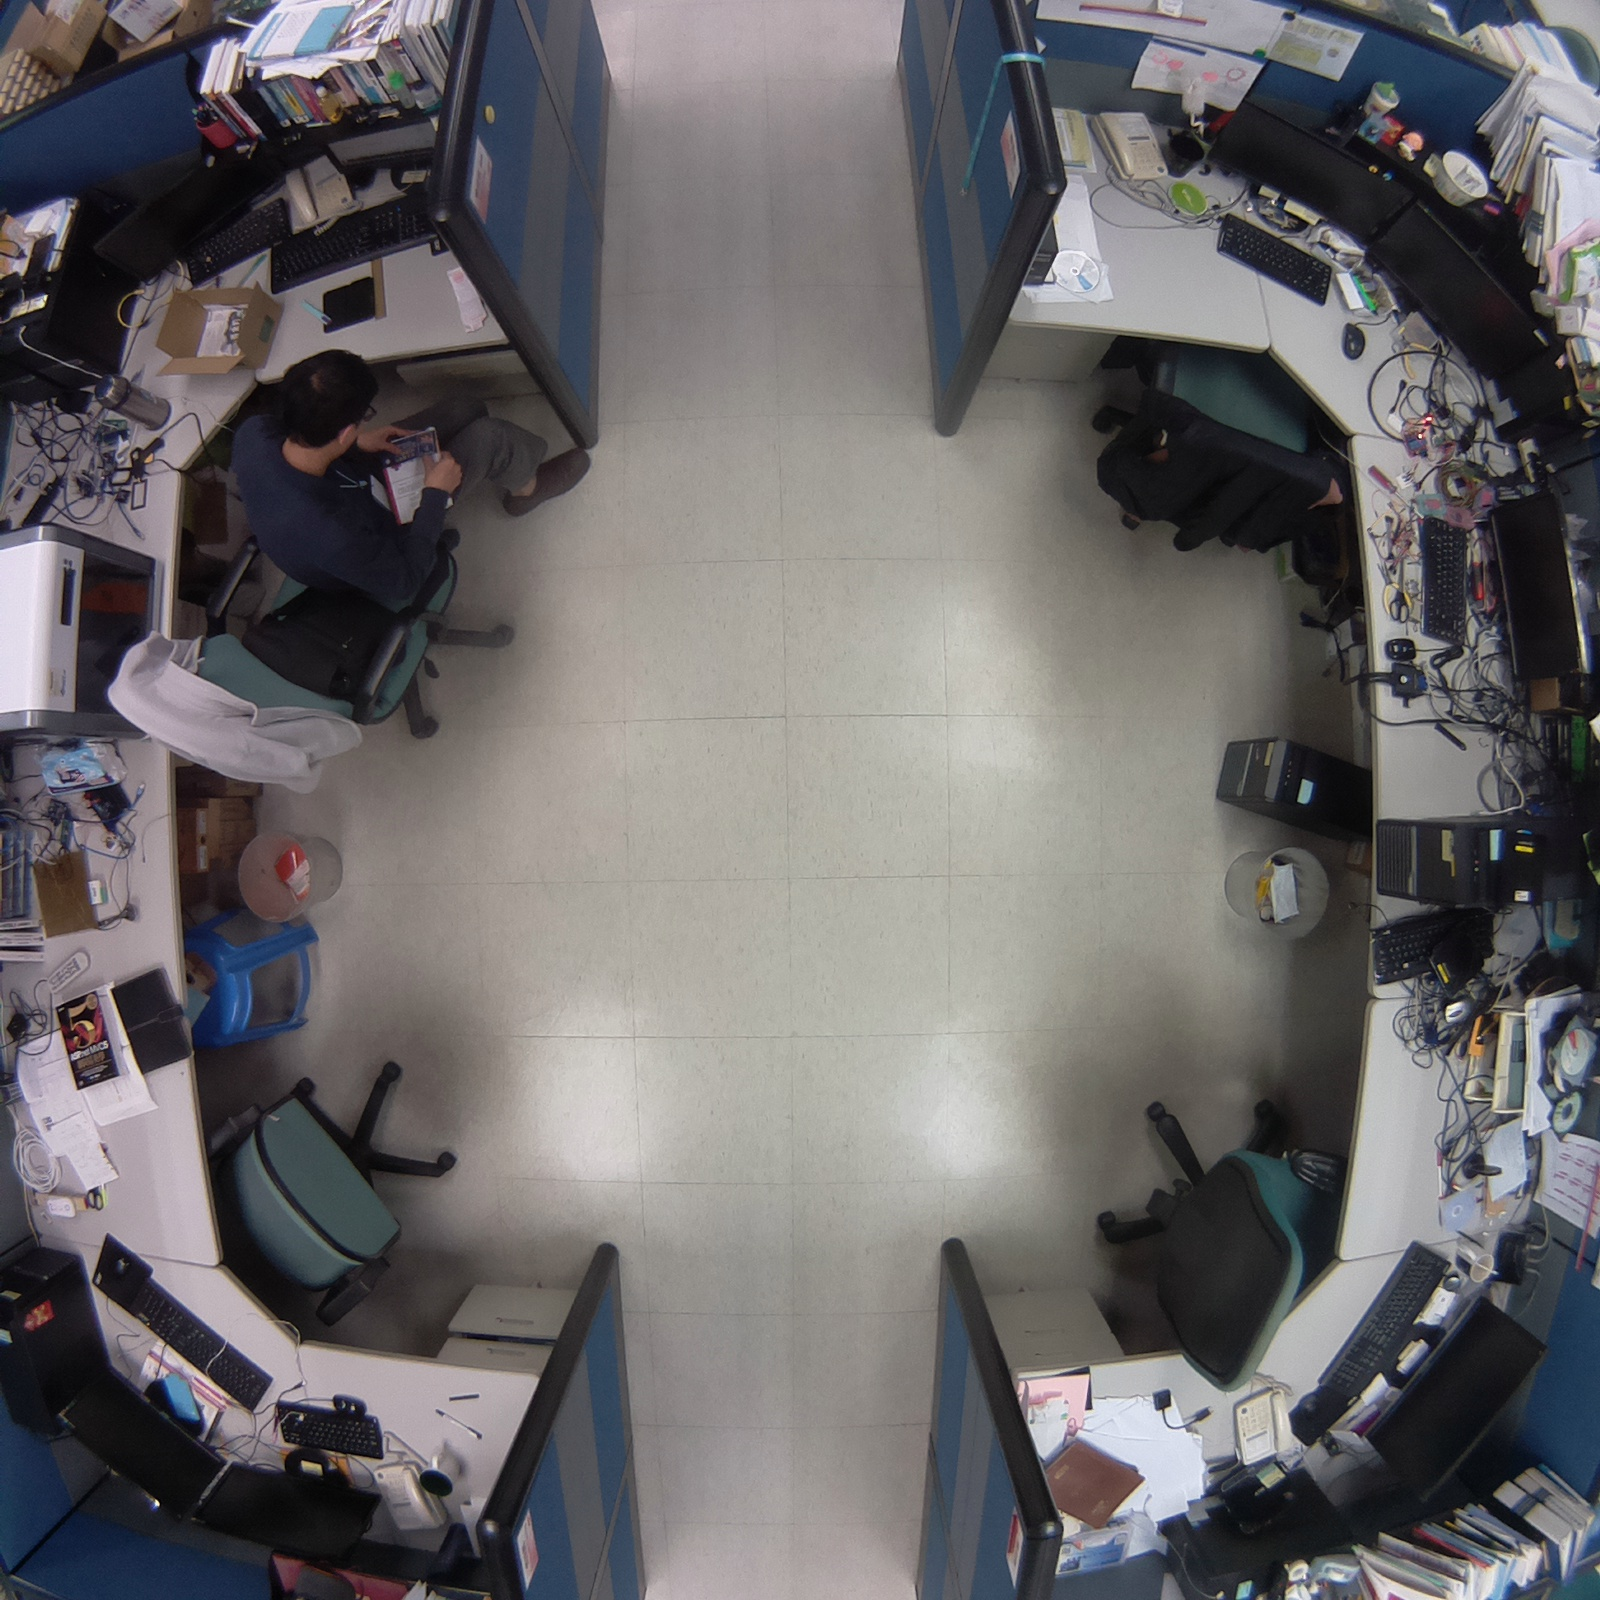chair: (1070, 1065, 1355, 1409), (191, 1040, 499, 1350), (1081, 304, 1363, 578)
head: (276, 344, 383, 461)
sitting: (96, 343, 607, 806)
